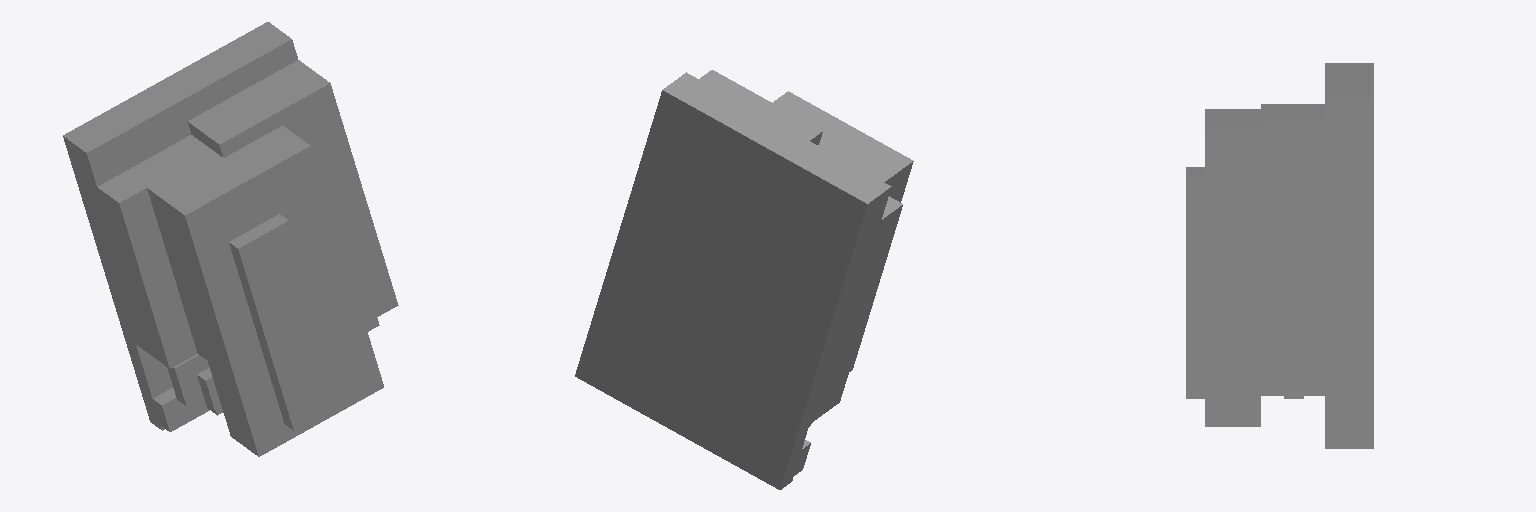
The model's file is Site12_Bldg1.obj.
3 views of the same model, side by side, from view 1: azimuth 30°, elevation 25°; view 2: azimuth 150°, elevation 25°; view 3: azimuth 270°, elevation 25° (orthographic).
Size of the model in its own units: 253 by 307 by 140.